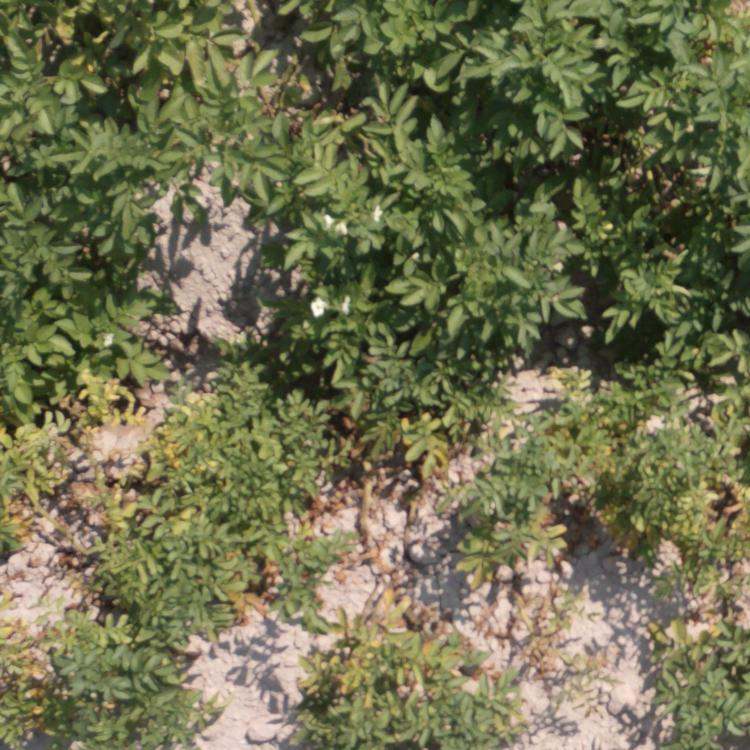healthy: (501, 1, 750, 348), (256, 167, 489, 415), (232, 1, 492, 163), (1, 1, 226, 158), (1, 167, 180, 360)
stressed: (501, 364, 741, 574), (118, 366, 253, 611), (304, 599, 498, 750), (2, 615, 205, 750), (1, 357, 111, 552), (261, 412, 427, 519), (621, 607, 750, 742), (444, 477, 501, 573), (518, 616, 572, 691)
